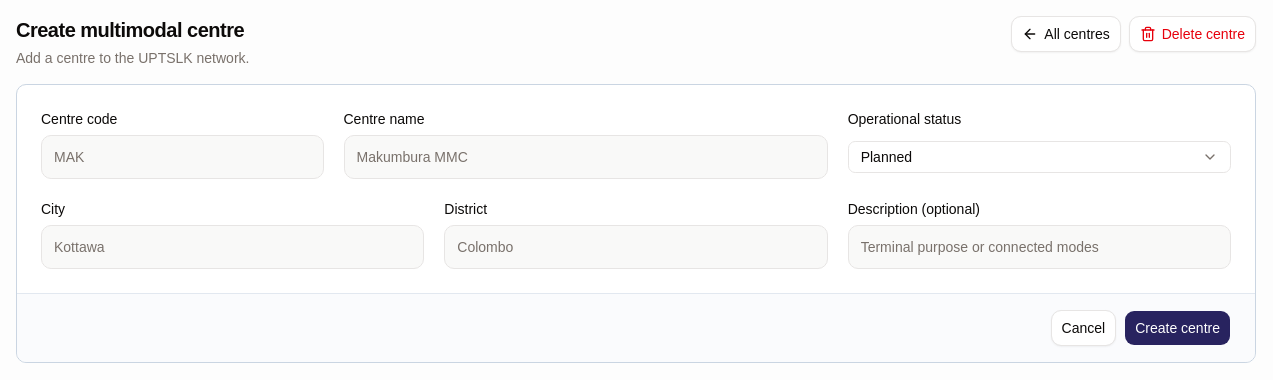
CentreFormPage › displays an error message when the API returns a 409 Conflict (duplicate code)
Type "DUPE" into the field labelled "Centre code" at (182, 157), box [41,135,324,179]
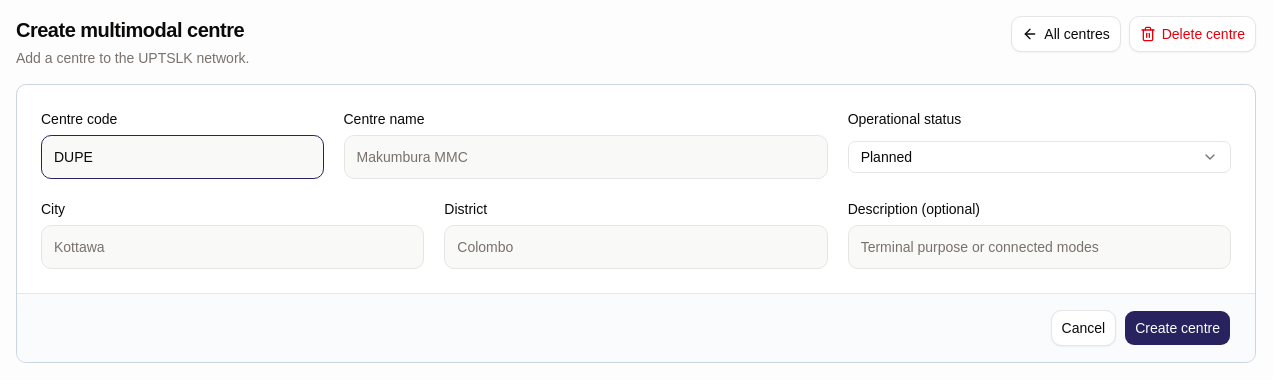
Type "Dupe Centre" into the field labelled "Centre name" at (586, 157), box [344,135,828,179]
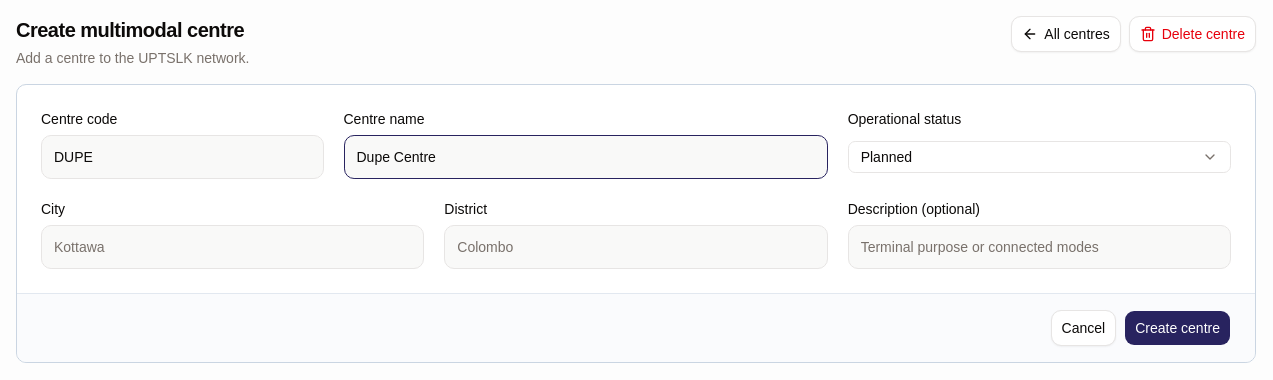
Type "City" into the field labelled "City" at (233, 247), box [41,225,424,269]
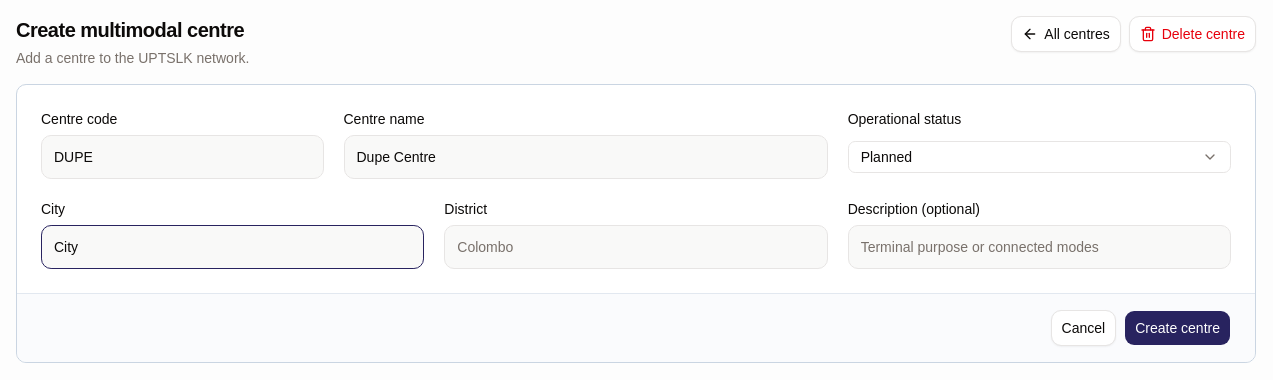
Type "District" into the field labelled "District" at (636, 247), box [444,225,828,269]
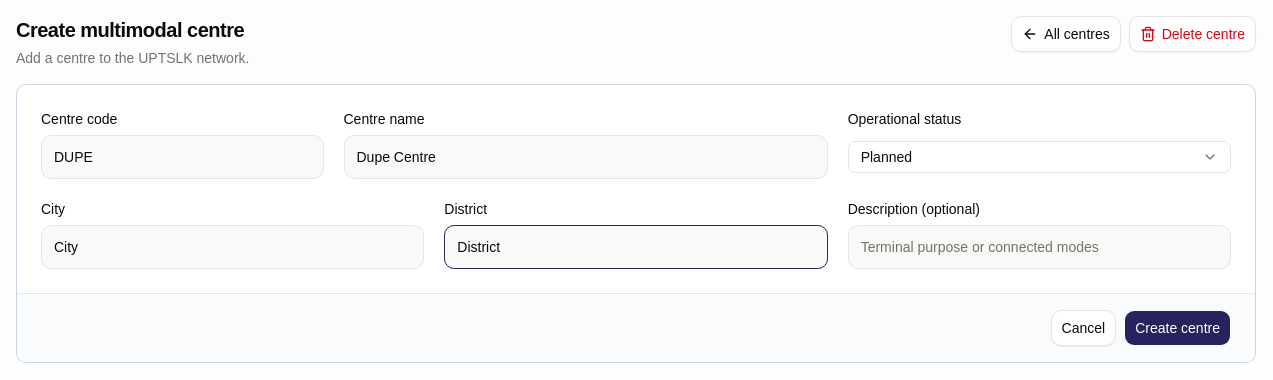
Click the button "Create centre" at (1178, 328), box [1124,310,1231,346]
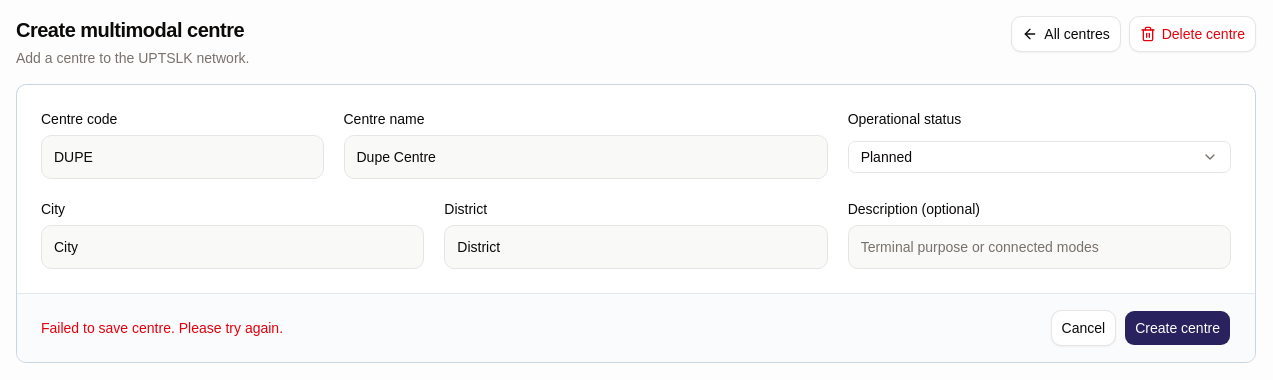
Now the text "Failed to save centre. Please try again." is shown, box [41,318,283,338]
